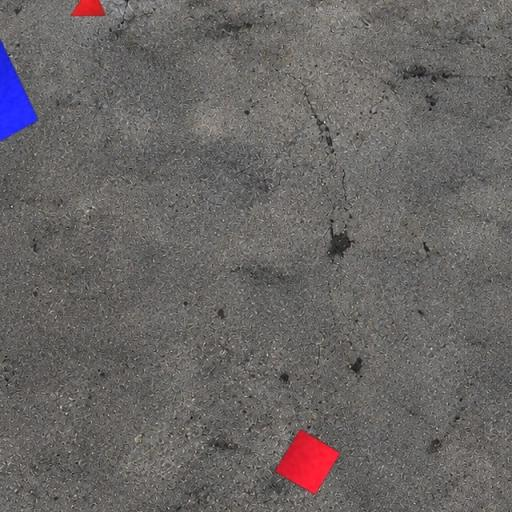BLUE_SQUARE: (0, 32, 39, 171)
RED_SQUARE: (274, 428, 340, 496)
